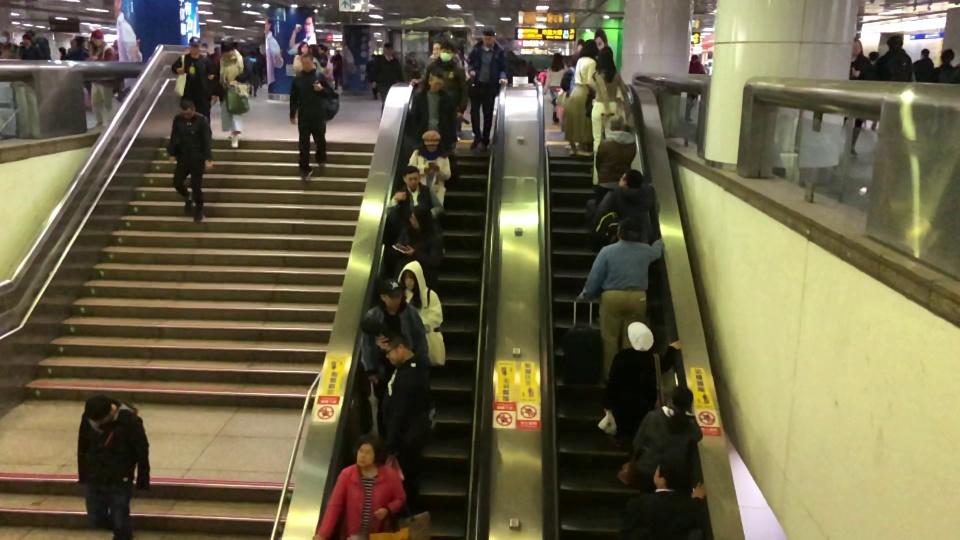person_head: (353, 432, 384, 465), (652, 460, 687, 489), (85, 395, 112, 421), (384, 335, 407, 364), (668, 385, 695, 409), (631, 328, 655, 351), (616, 217, 640, 239), (617, 168, 643, 187), (402, 165, 421, 190), (381, 288, 402, 308), (595, 47, 613, 67), (409, 207, 426, 228), (427, 68, 443, 90), (438, 43, 455, 61), (481, 27, 496, 46), (402, 268, 417, 287), (179, 99, 195, 116), (423, 133, 438, 150), (608, 115, 625, 130), (220, 41, 235, 57), (580, 39, 594, 56), (886, 35, 904, 48), (940, 48, 954, 62), (300, 54, 313, 69), (91, 33, 104, 47), (431, 40, 442, 56), (852, 39, 863, 54), (188, 40, 200, 53), (383, 42, 393, 55), (0, 31, 9, 43), (298, 41, 307, 53), (75, 36, 85, 46), (552, 52, 562, 62), (22, 34, 31, 45), (920, 48, 929, 57), (691, 54, 698, 61)
person_vbox: (576, 217, 664, 381), (76, 395, 151, 539), (312, 432, 407, 540), (601, 328, 682, 446), (632, 385, 703, 493), (382, 335, 436, 462), (624, 460, 708, 540), (359, 288, 429, 383), (288, 54, 338, 178), (165, 99, 213, 223), (589, 47, 627, 187), (467, 27, 509, 152), (591, 168, 655, 242), (415, 43, 469, 119), (560, 39, 594, 154), (171, 40, 219, 120), (595, 115, 637, 204), (411, 68, 458, 145), (406, 133, 451, 207), (217, 41, 248, 148), (843, 39, 871, 155), (385, 165, 445, 218), (392, 207, 445, 267), (402, 268, 443, 333), (370, 42, 404, 118), (91, 33, 117, 126), (875, 35, 912, 82), (543, 52, 567, 123), (67, 36, 92, 95), (685, 54, 706, 121), (933, 48, 955, 82), (913, 49, 933, 83), (21, 34, 42, 59), (0, 31, 18, 58)
